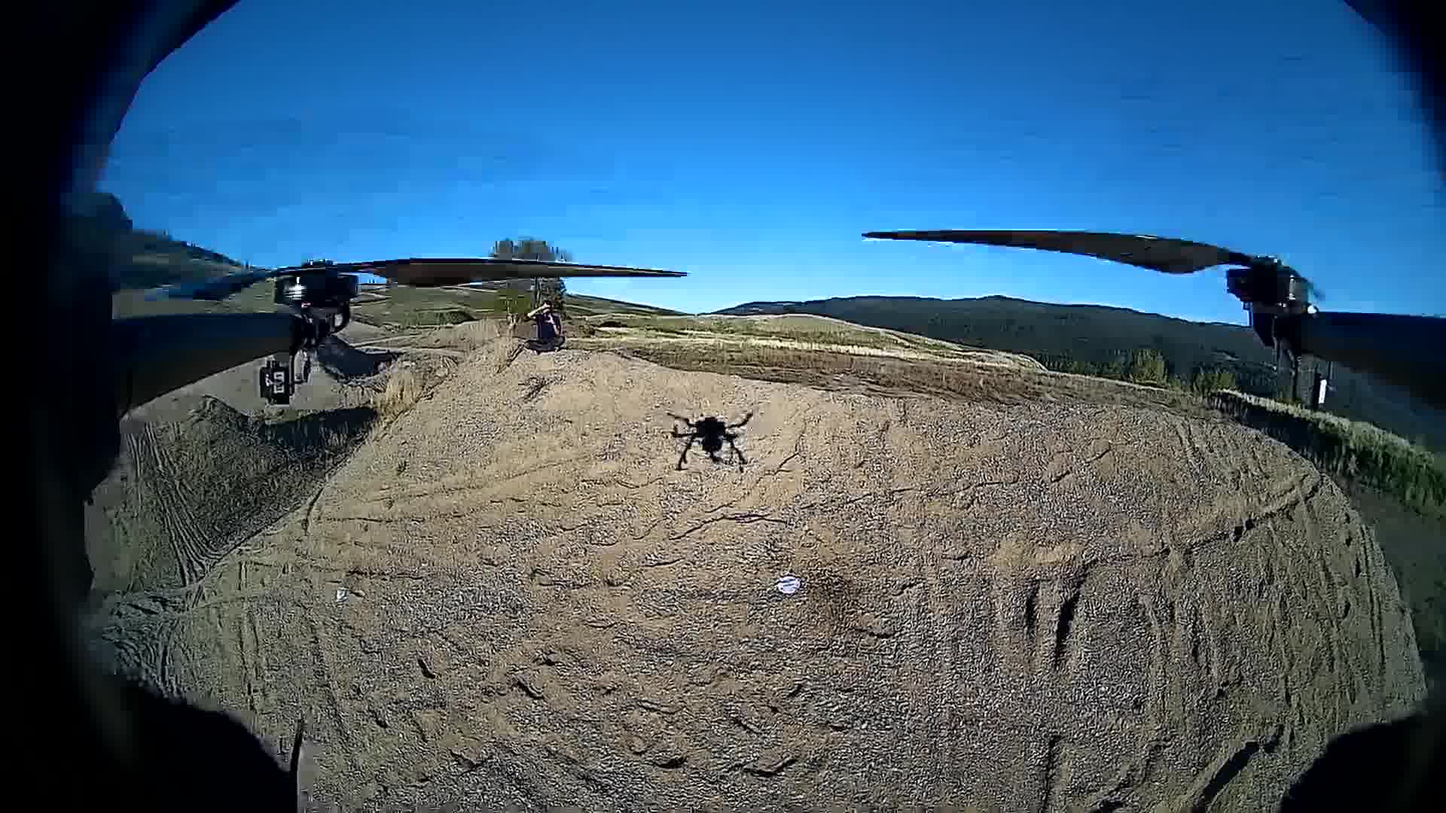Target: (777, 576, 800, 595)
